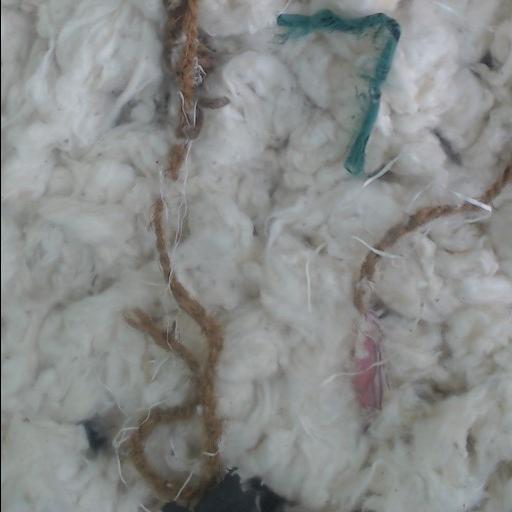cloth: (277, 10, 400, 176), (191, 469, 291, 511), (353, 311, 384, 411)
cotton: (1, 0, 512, 511)
jute: (128, 193, 223, 454), (165, 0, 202, 191), (130, 413, 193, 499), (373, 201, 472, 250), (482, 160, 512, 201), (358, 256, 378, 281), (354, 288, 363, 311)
thread: (441, 189, 492, 222), (111, 424, 138, 484), (362, 156, 399, 186), (352, 236, 399, 257), (409, 184, 432, 206), (304, 259, 312, 313), (323, 372, 358, 382), (313, 245, 325, 259), (167, 270, 172, 287), (203, 452, 217, 455)
